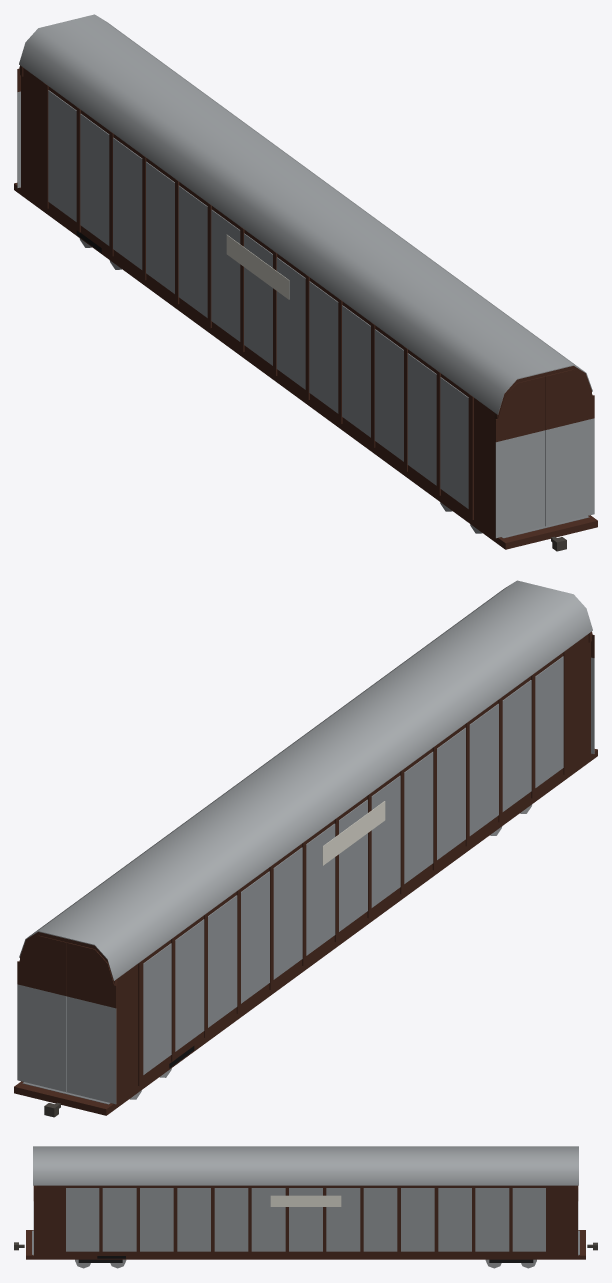
Rendered from autorack_89_hblx.glb.
3 views of the same model, one above another, from view 1: azimuth 30°, elevation 25°; view 2: azimuth 150°, elevation 25°; view 3: azimuth 270°, elevation 25° (orthographic). The views are drawn at different scales.
Parts seen in each view (by area): view 1: Body_Roof, Body_Screen, Body_Rack, Door_l_2_Door, Door_r_2_Door, Body_Frame, Door_r_2_DoorTop, Door_l_2_DoorTop, Body_Plate; view 2: Body_Roof, Body_Screen, Body_Rack, Door_l_1_Door, Door_r_1_Door, Body_Frame, Door_l_1_DoorTop, Door_r_1_DoorTop, Body_Plate; view 3: Body_Screen, Body_Roof, Body_Rack, Body_Frame, Body_Plate.
Boxes of the visible parts, left/top/right/bottom form: Body_Roof: left=19, top=14, right=592, bottom=414; Body_Screen: left=48, top=90, right=468, bottom=508; Body_Rack: left=20, top=65, right=591, bottom=537; Door_l_2_Door: left=545, top=418, right=594, bottom=525; Door_r_2_Door: left=495, top=430, right=544, bottom=538; Body_Frame: left=14, top=183, right=597, bottom=549; Door_r_2_DoorTop: left=495, top=376, right=545, bottom=442; Door_l_2_DoorTop: left=545, top=369, right=594, bottom=429; Body_Plate: left=226, top=235, right=289, bottom=299; Body_Roof: left=19, top=580, right=592, bottom=980; Body_Screen: left=143, top=656, right=563, bottom=1074; Body_Rack: left=20, top=631, right=591, bottom=1103; Door_l_1_Door: left=67, top=996, right=116, bottom=1104; Door_r_1_Door: left=17, top=984, right=66, bottom=1092; Body_Frame: left=14, top=749, right=597, bottom=1115; Door_l_1_DoorTop: left=66, top=942, right=116, bottom=1008; Door_r_1_DoorTop: left=17, top=935, right=66, bottom=996; Body_Plate: left=322, top=801, right=385, bottom=865; Body_Screen: left=66, top=1188, right=545, bottom=1251; Body_Roof: left=33, top=1146, right=578, bottom=1185; Body_Rack: left=34, top=1185, right=577, bottom=1255; Body_Frame: left=26, top=1230, right=585, bottom=1259; Body_Plate: left=270, top=1195, right=341, bottom=1206.
Size of the model in its own units: 3.18 by 5.79 by 28.6.
